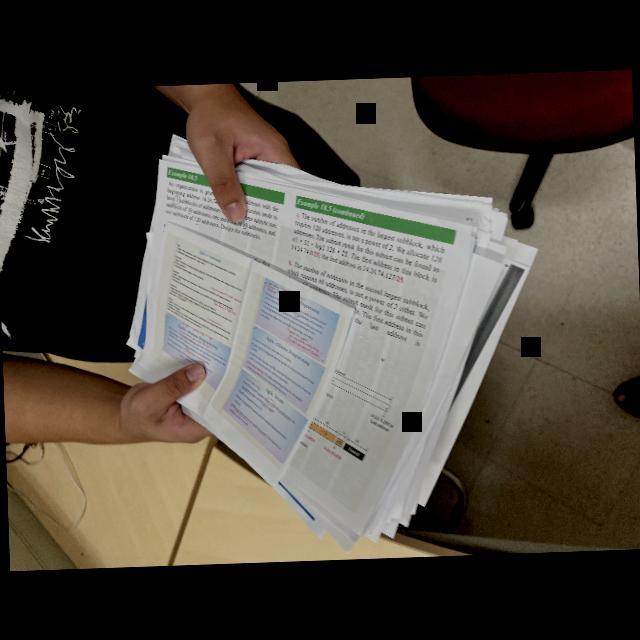reuseable_paper: (112, 114, 549, 554)
